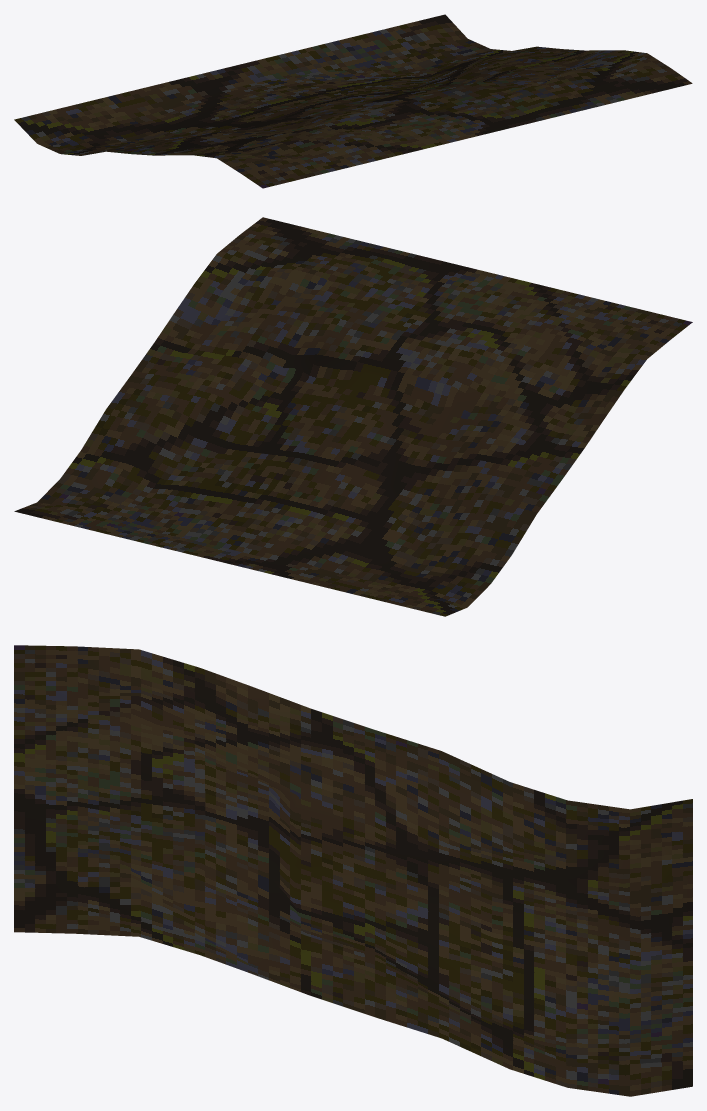
File: Slope.fbx
3 views of the same model, one above another, from view 1: azimuth 30°, elevation 25°; view 2: azimuth 150°, elevation 25°; view 3: azimuth 270°, elevation 25° (orthographic). The views are drawn at different scales.
Parts seen in each view (by area): view 1: Slope; view 2: Slope; view 3: Slope.
Boxes of the visible parts, x1,y1,x2,y2 form: Slope: (14, 14, 692, 188); Slope: (14, 217, 692, 616); Slope: (14, 645, 692, 1096).
Size of the model in its own units: 200 by 53.33 by 200.
Materials: 1 (1 with a texture image).
